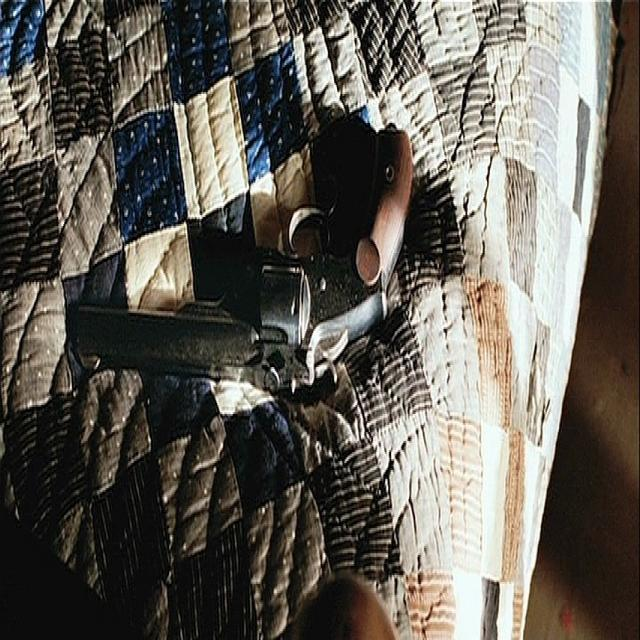gun-knife-thesis - v11 Yolov5 augmented: (66, 114, 416, 408)
